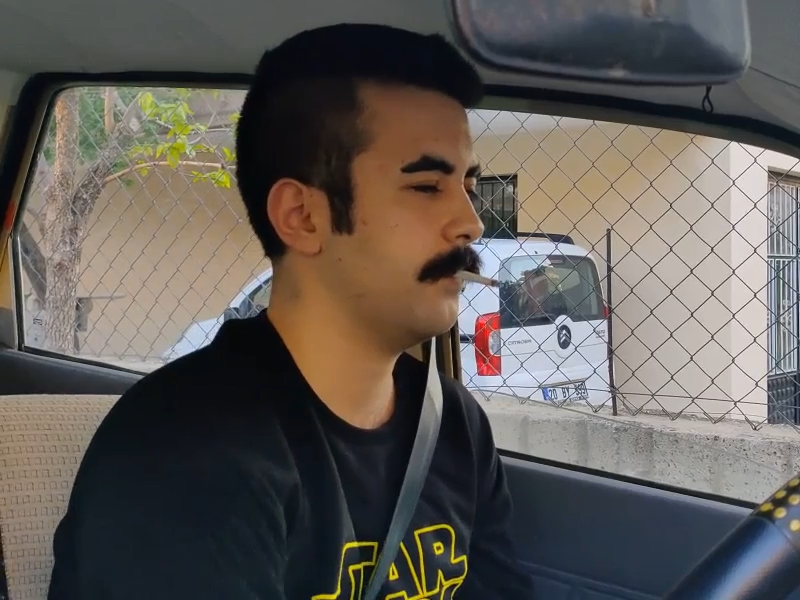sigara: (457, 268, 506, 292)
